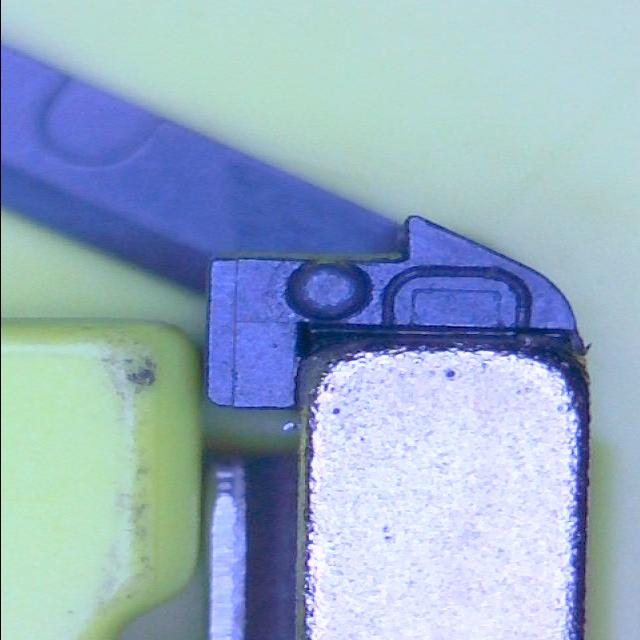lacking: (378, 262, 534, 334)
